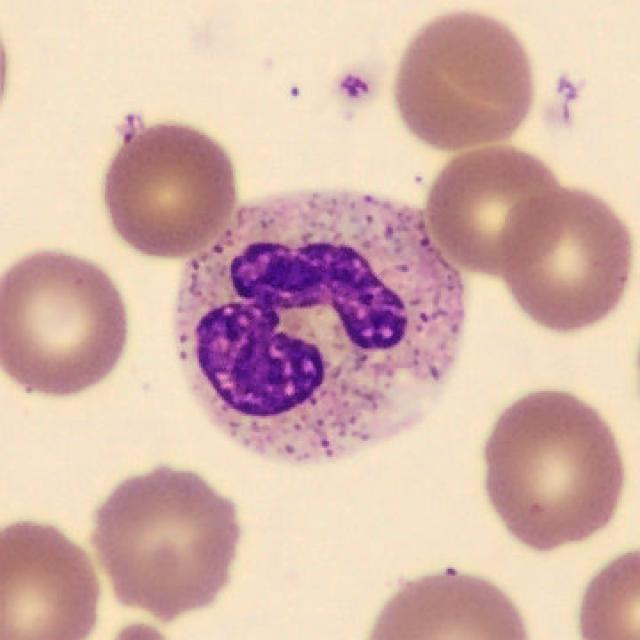Neutrofilo segmentado: (176, 194, 466, 468)
